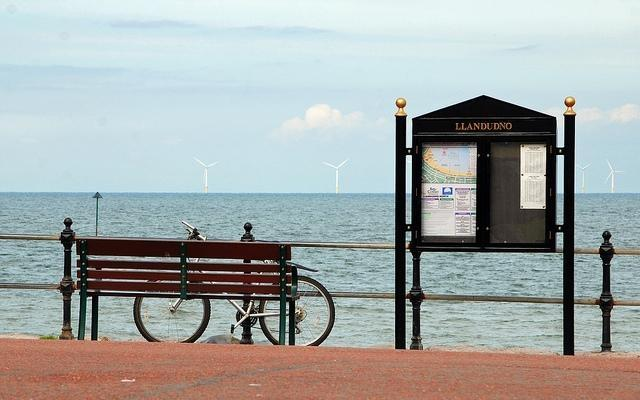bicycle: (137, 272, 339, 347)
